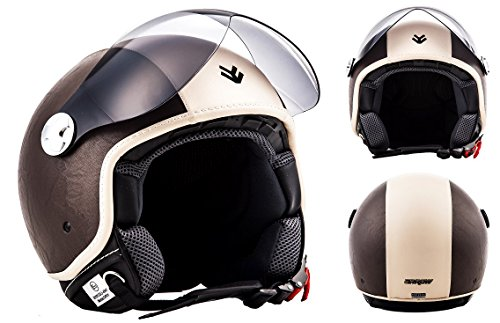with_helmet: (13, 5, 318, 313), (344, 3, 491, 158), (347, 170, 492, 314)
